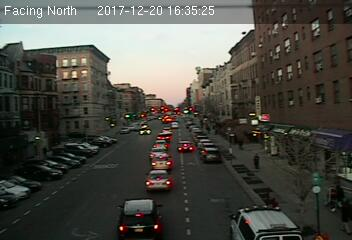car: (112, 198, 166, 237), (144, 168, 172, 192), (151, 154, 173, 169), (201, 147, 222, 162), (176, 138, 193, 153), (152, 140, 168, 152), (139, 127, 152, 135)
police: (229, 202, 304, 240)
